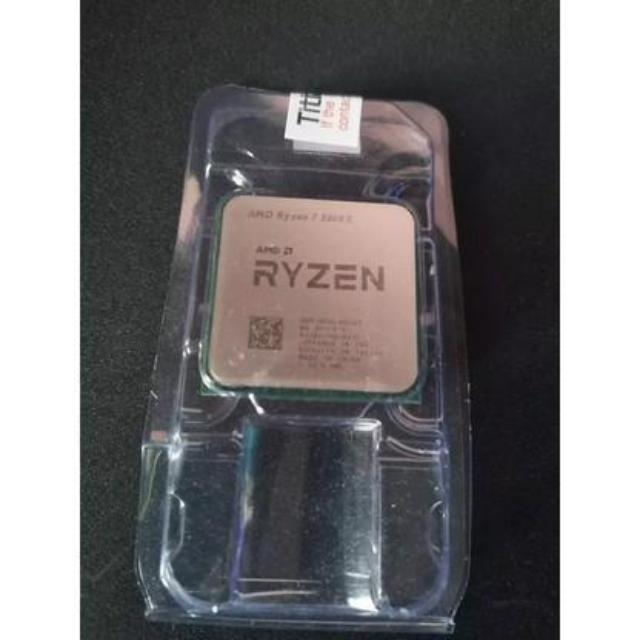CPU: (204, 194, 424, 400)
